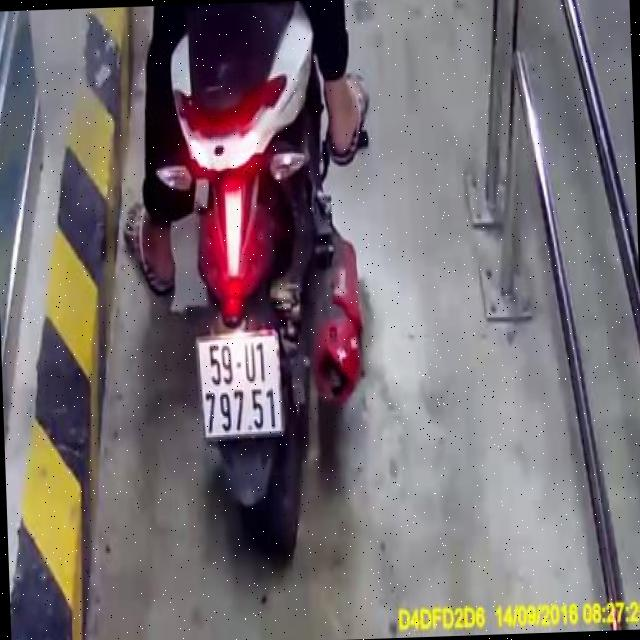license_plate: (192, 328, 286, 440)
